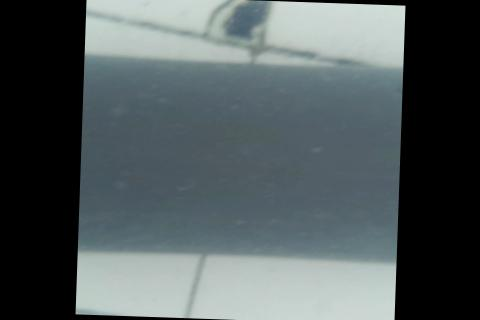keretakan: (386, 85, 402, 100)
